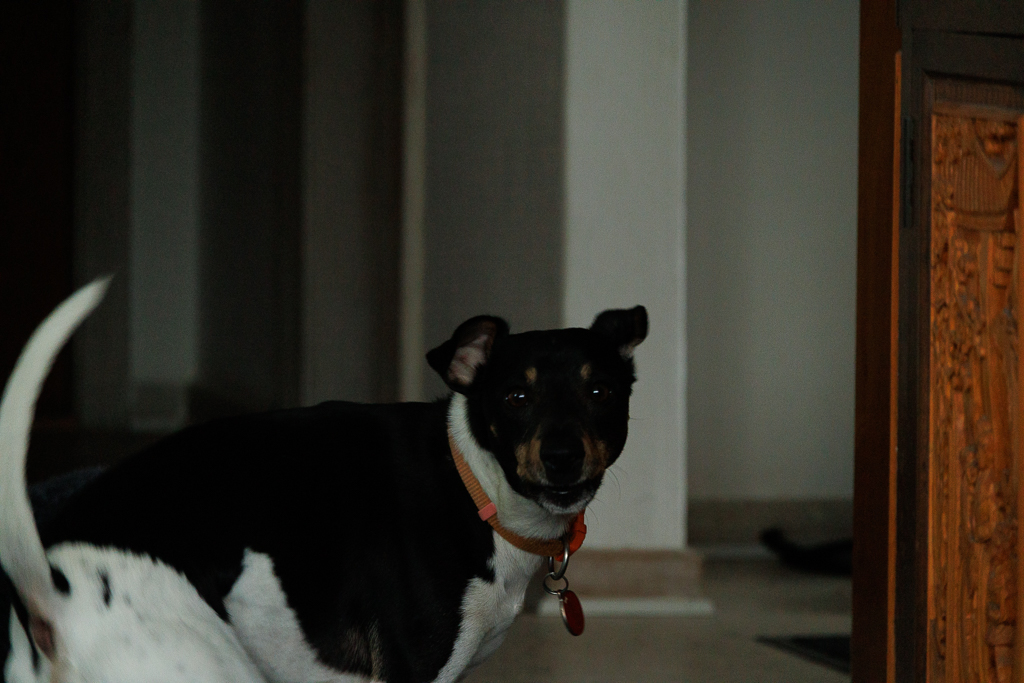Dog: (0, 262, 667, 683)
